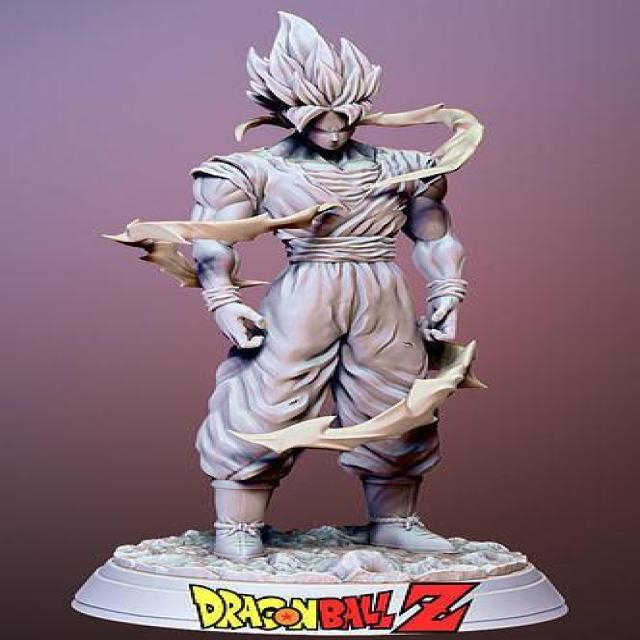Without deffect: (32, 1, 587, 638)
